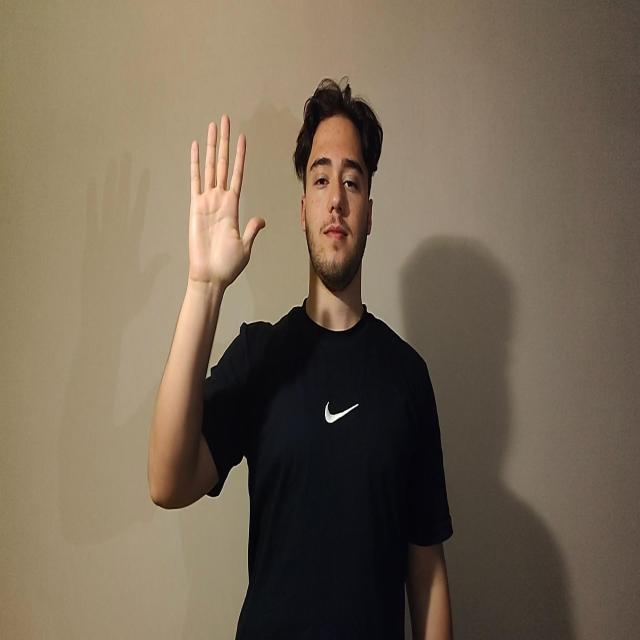hello: (187, 113, 266, 289)
